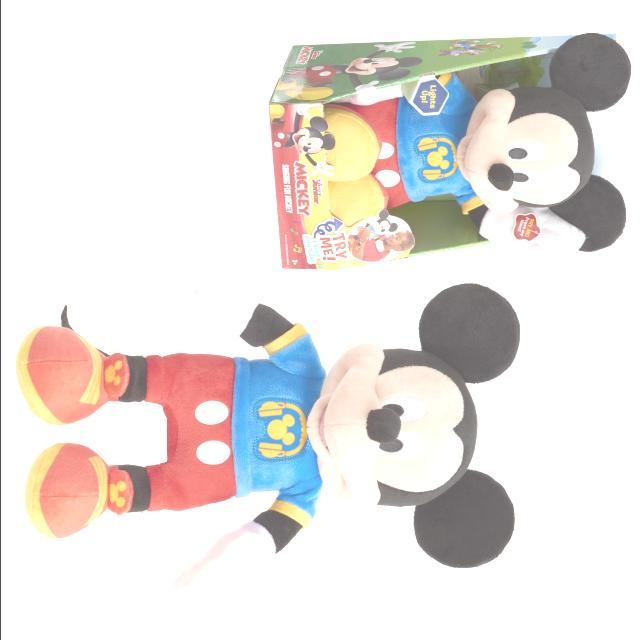mickey: (16, 248, 518, 618), (324, 34, 629, 273), (277, 42, 421, 99), (270, 104, 334, 177)
